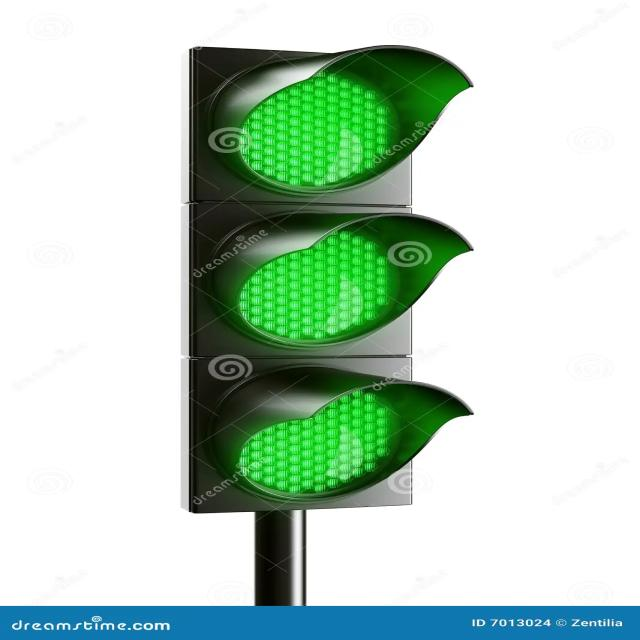green: (230, 62, 410, 186), (228, 386, 411, 494), (231, 229, 397, 337)
